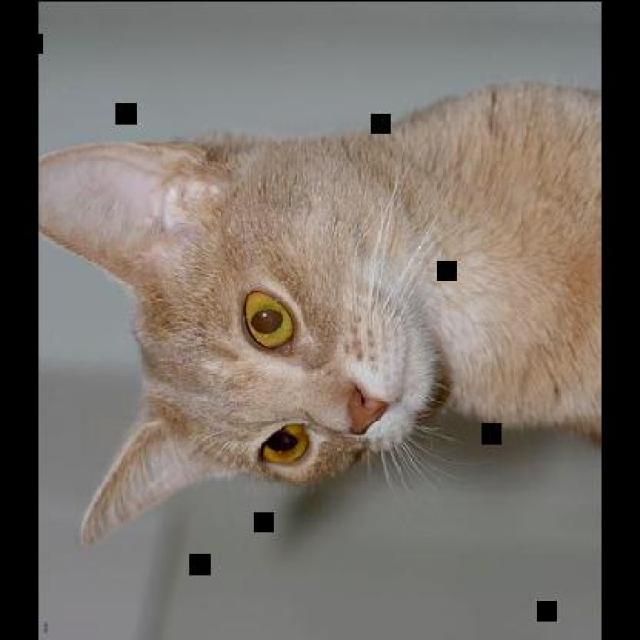unauthorized: (37, 78, 601, 544)
